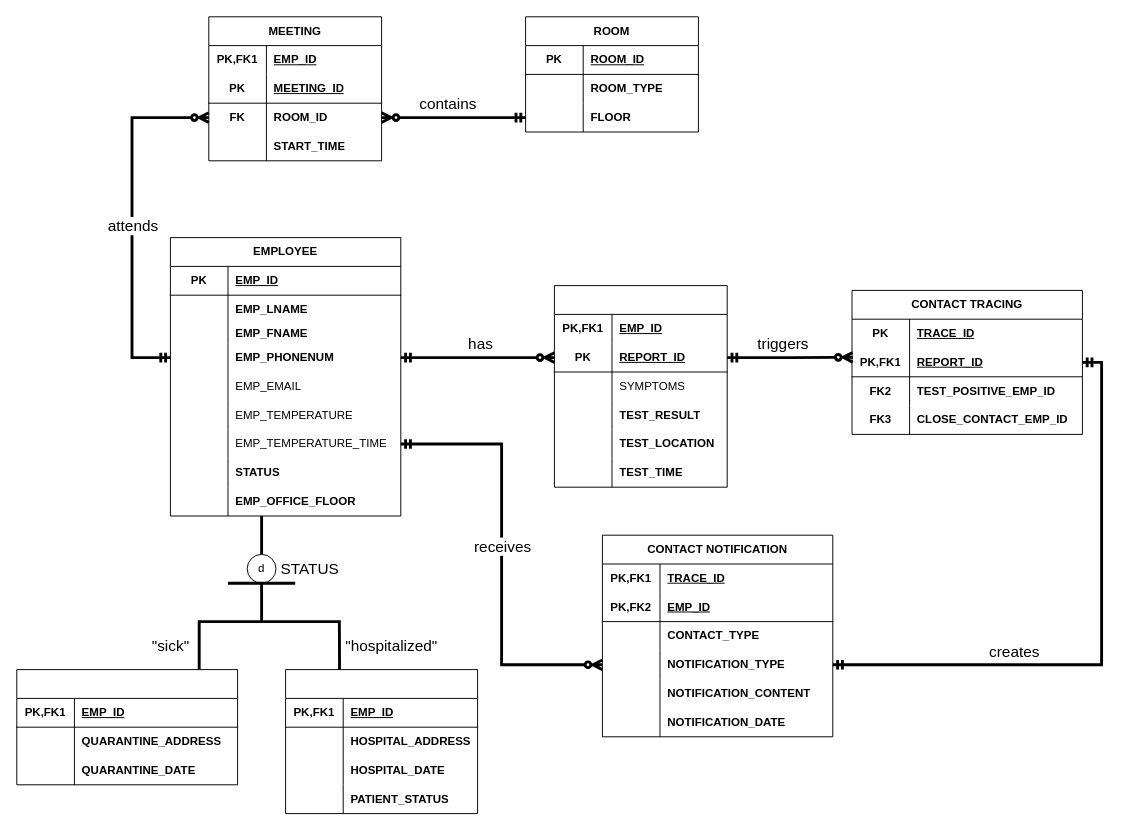
The diagram is 1128 pixels wide and 830 high, and some of its shapes have lost their labels. Here are the shapes that lost their labels. From the top down, the box of each, then its label:
(553, 285, 727, 487): HEALTH REPORT
(16, 669, 238, 785): SELF-QUARANTINE
(285, 669, 478, 814): HOSPITALIZED
